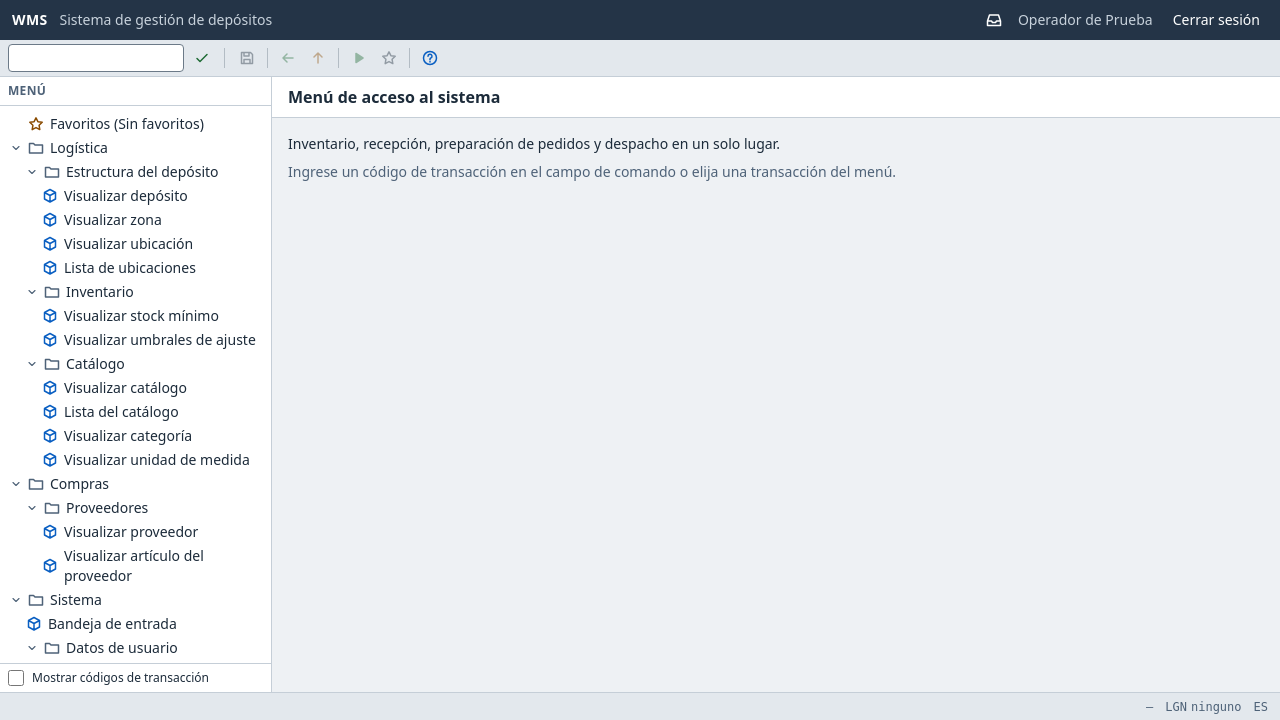
Test: armazón: transacciones según permisos › el campo de comando distingue una transacción sin autorización de una inexistente
This screenshot has width=1280, height=720.
Expected: the element named "Barra de herramientas estándar" is shown, [233,44,444,72]
Type "ZT01" into the field named "Campo de comando" at (96, 58), box [8,44,184,72]
Then press Enter
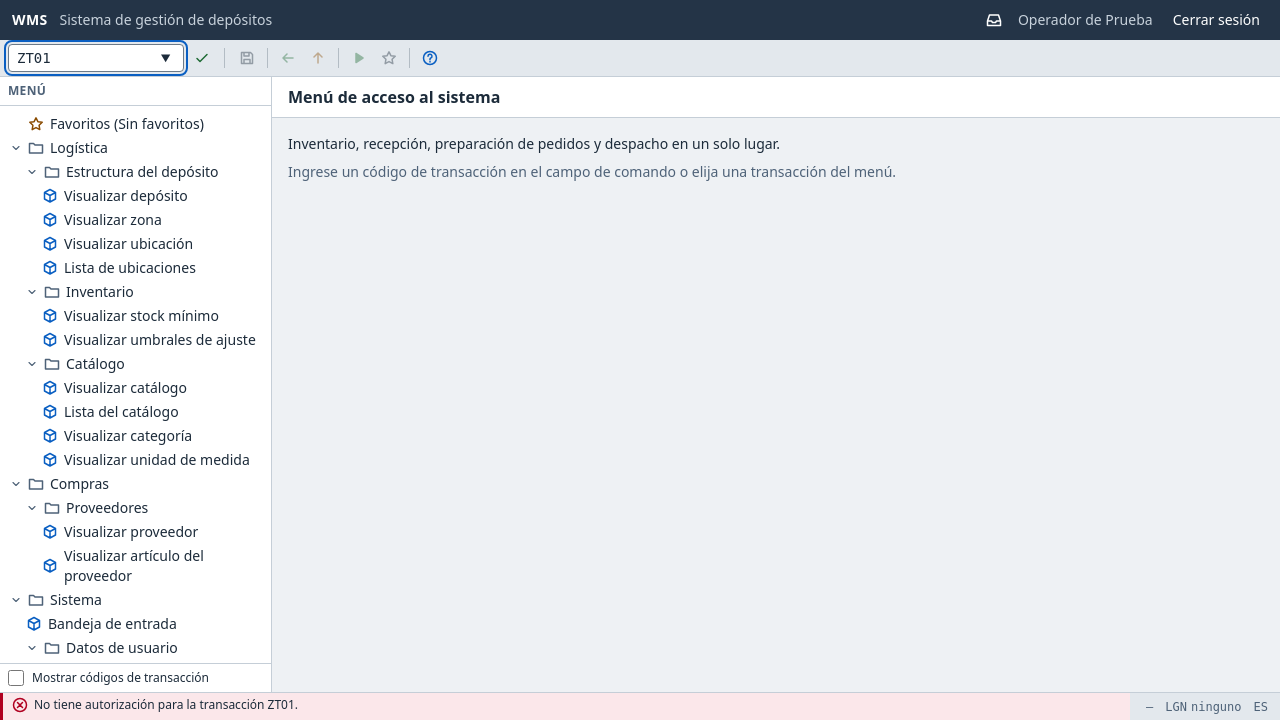
Expected: the heading "Menú de acceso al sistema" is shown, [288,85,500,109]
Expected: the message reads "No tiene autorización para la transacción ZT01.", [34,696,298,712]
